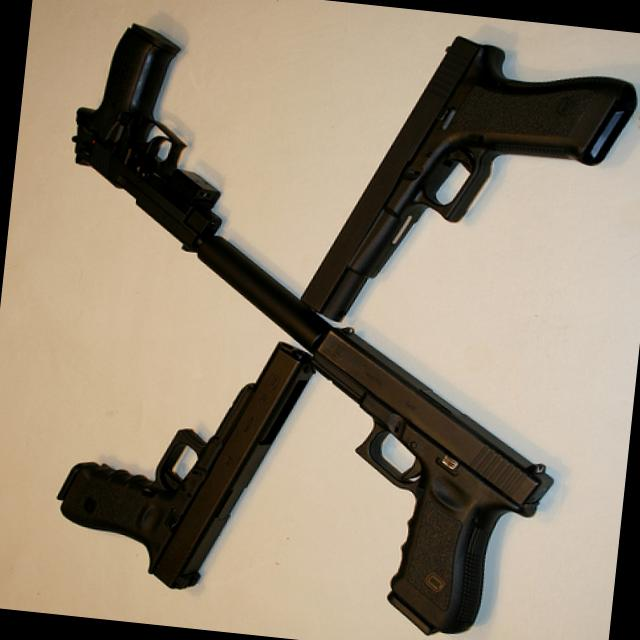handgun: (296, 24, 639, 350), (279, 328, 563, 639), (44, 320, 316, 602), (58, 16, 250, 262)
